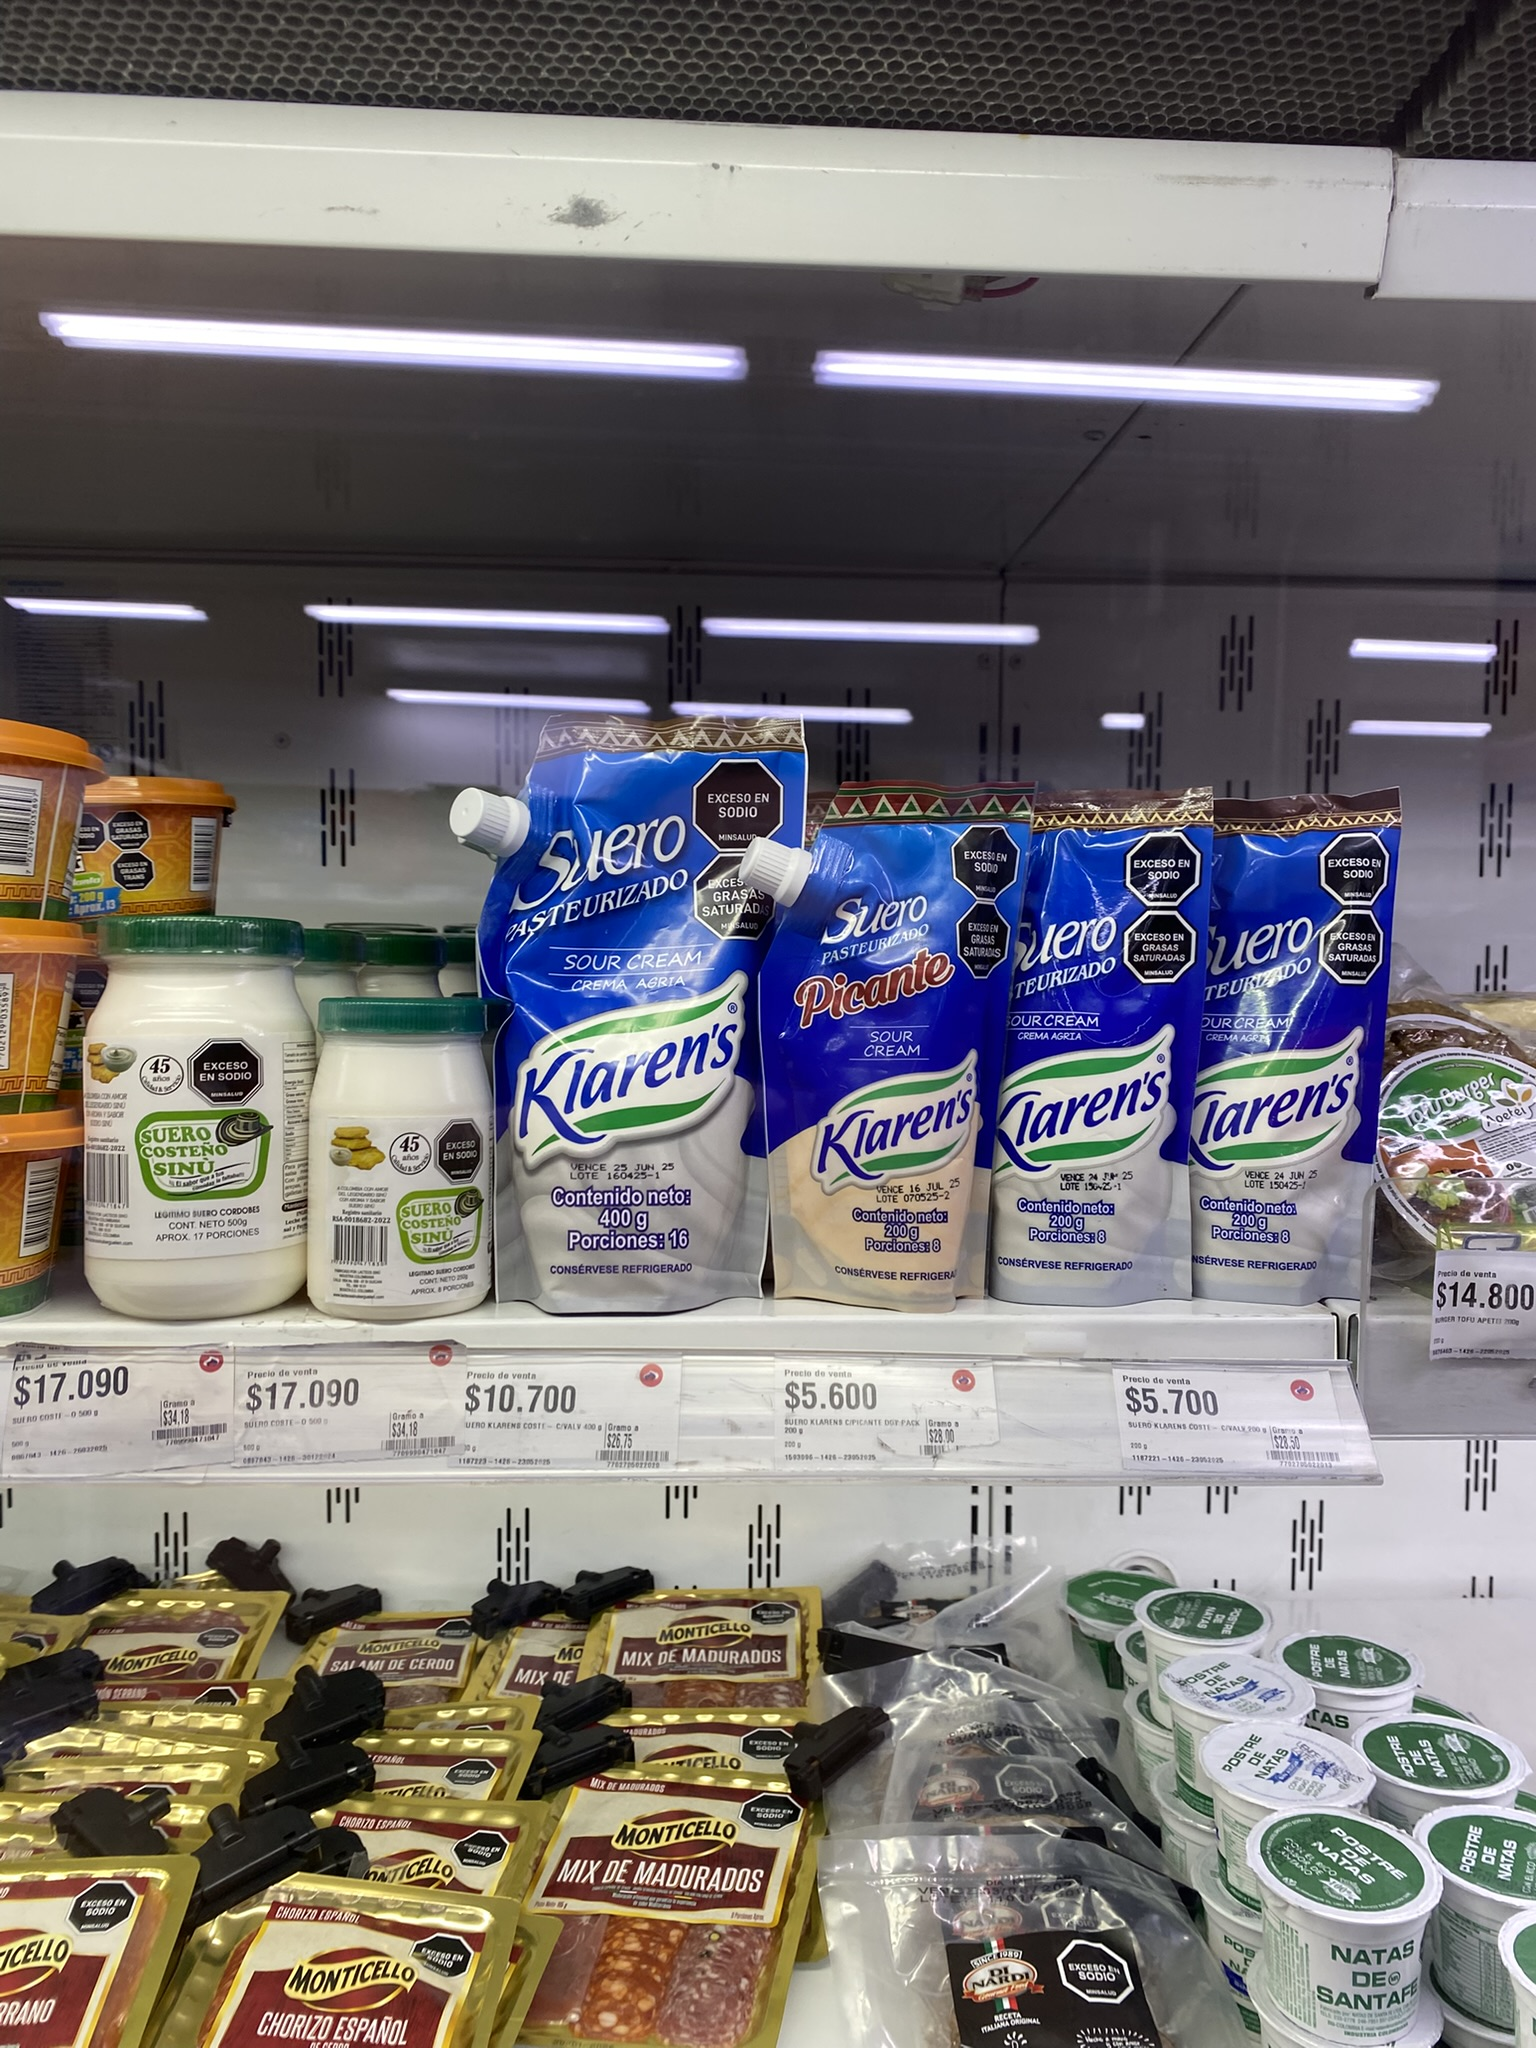Suero: (442, 705, 773, 1309), (1196, 779, 1412, 1295), (991, 787, 1196, 1311)
